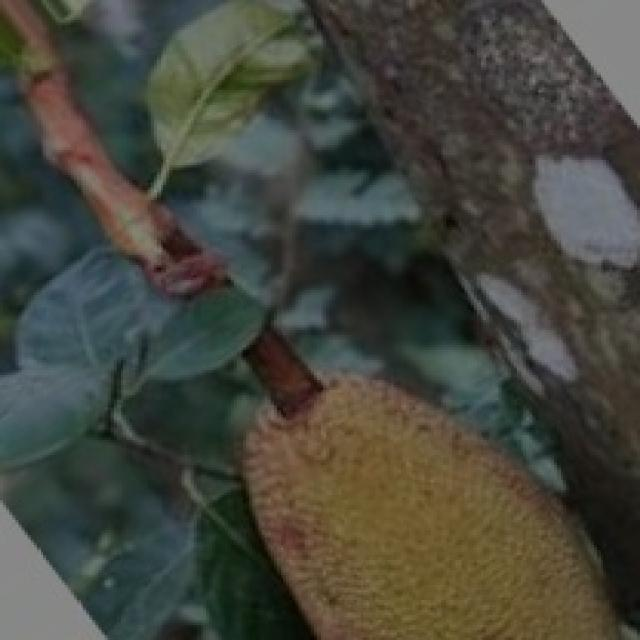Fruit: (237, 292, 637, 638)
